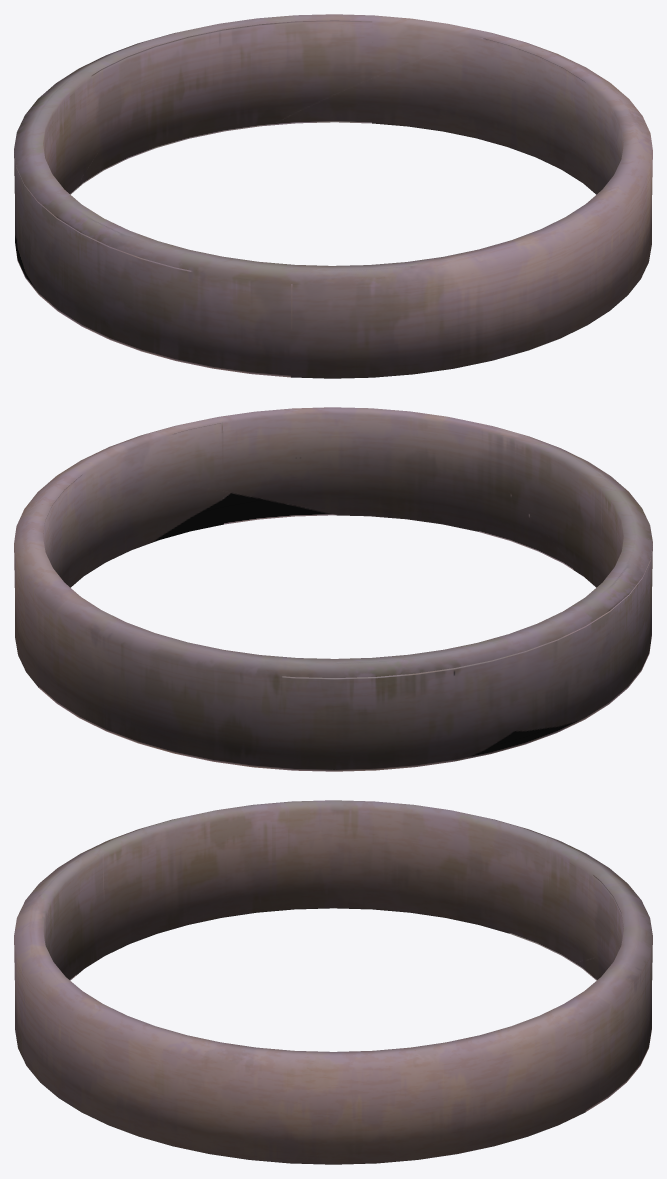
The model's file is cauldronwall.glb.
The picture shows the model from 3 angles, top to bottom: view 1: azimuth 30°, elevation 25°; view 2: azimuth 150°, elevation 25°; view 3: azimuth 270°, elevation 25°; orthographic projection.
Parts seen in each view (by area): view 1: BezierCircle.003; view 2: BezierCircle.003; view 3: BezierCircle.003.
Boxes of the visible parts, x1,y1,x2,y2 form: BezierCircle.003: (14, 14, 652, 378); BezierCircle.003: (14, 407, 652, 771); BezierCircle.003: (14, 800, 652, 1164).
Bounding box in the file's own units: 15.73 × 2.76 × 15.73.
Materials: 1 (1 with a texture image).
